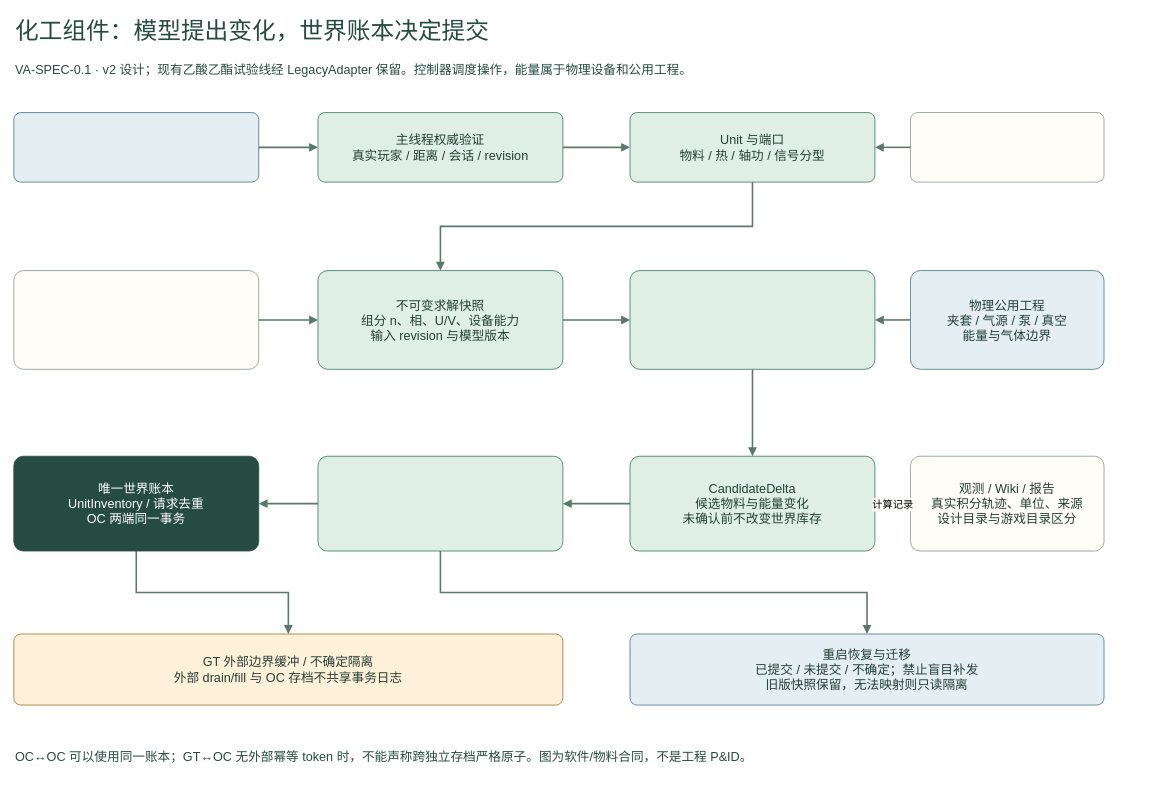
Image size: 1173x787. Some labels were removed from this diagram. Each missing label, with the centre of its shape:
主线程重验 / 预留 单写入器落盘 → 确认 CommitReceipt / revision: [440,503]
批次调度 条件满足才转阶段: [1007,147]
有界数值求解 反应 + 分相 + 热/质传递 残差 / 非负 / 超域检查: [752,319]
版本化资料 分子身份 / 元素矩阵 / 物性 反应域 / 来源 / 参数 / 审核: [136,319]
玩家 / 每机右键 UI 量、相、温压、曲线、拒绝原因: [136,147]
